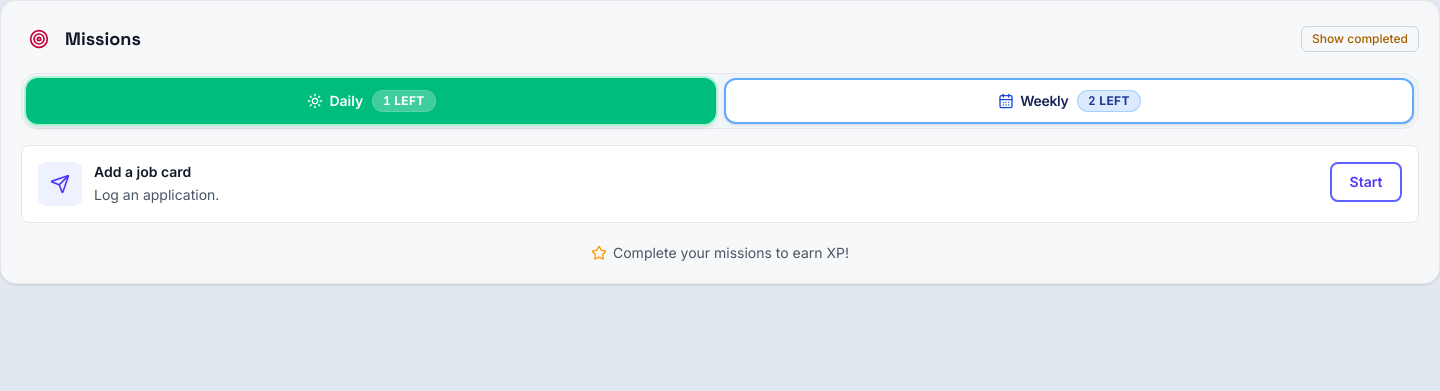
Scenario: MissionsSection › hides completed missions by default and shows them when toggled
Check: the text "Add a job card" is shown, box [94,163,191,180]
Check: the text "Claim your daily XP" is not shown
Click the button "Show completed".
click(1360, 39)  # box [1301,26,1419,52]
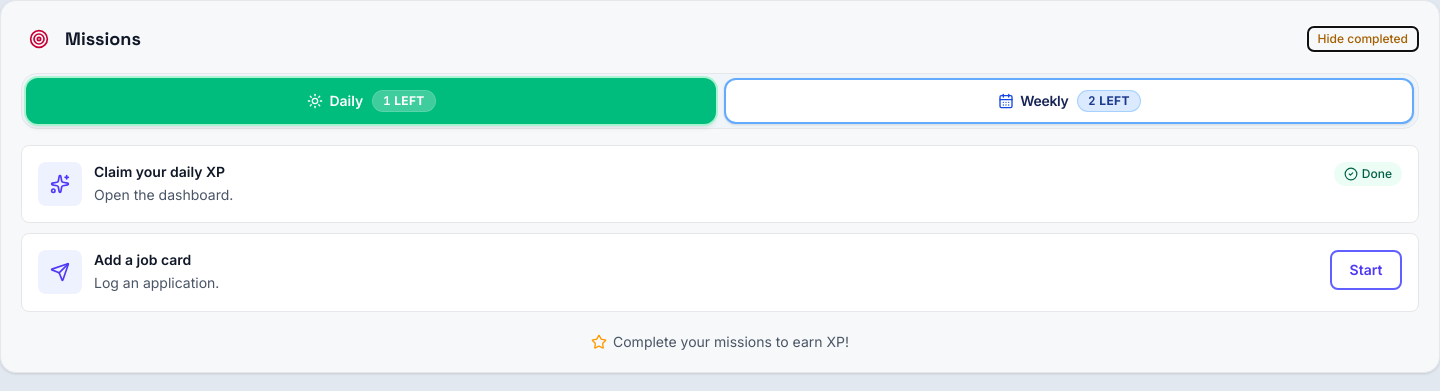
Check: the text "Claim your daily XP" is shown, box [94,163,225,180]
